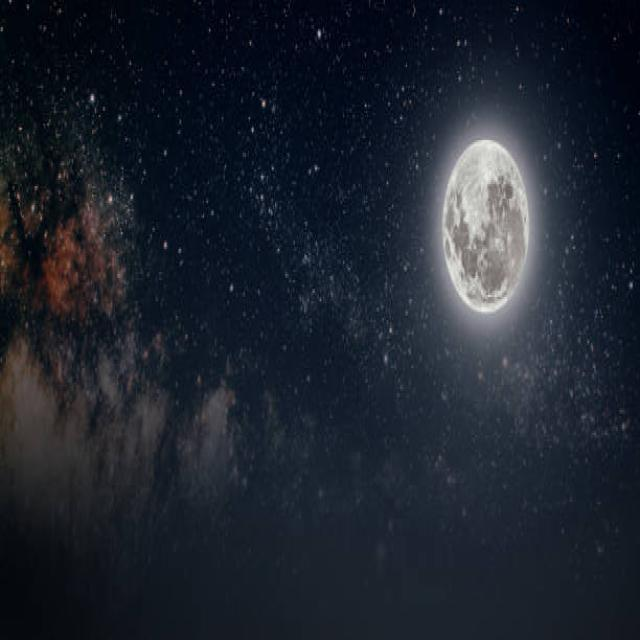moon: (441, 142, 531, 314)
